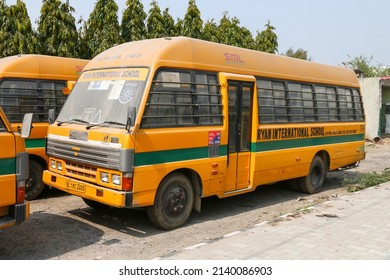bus: (42, 35, 366, 232)
